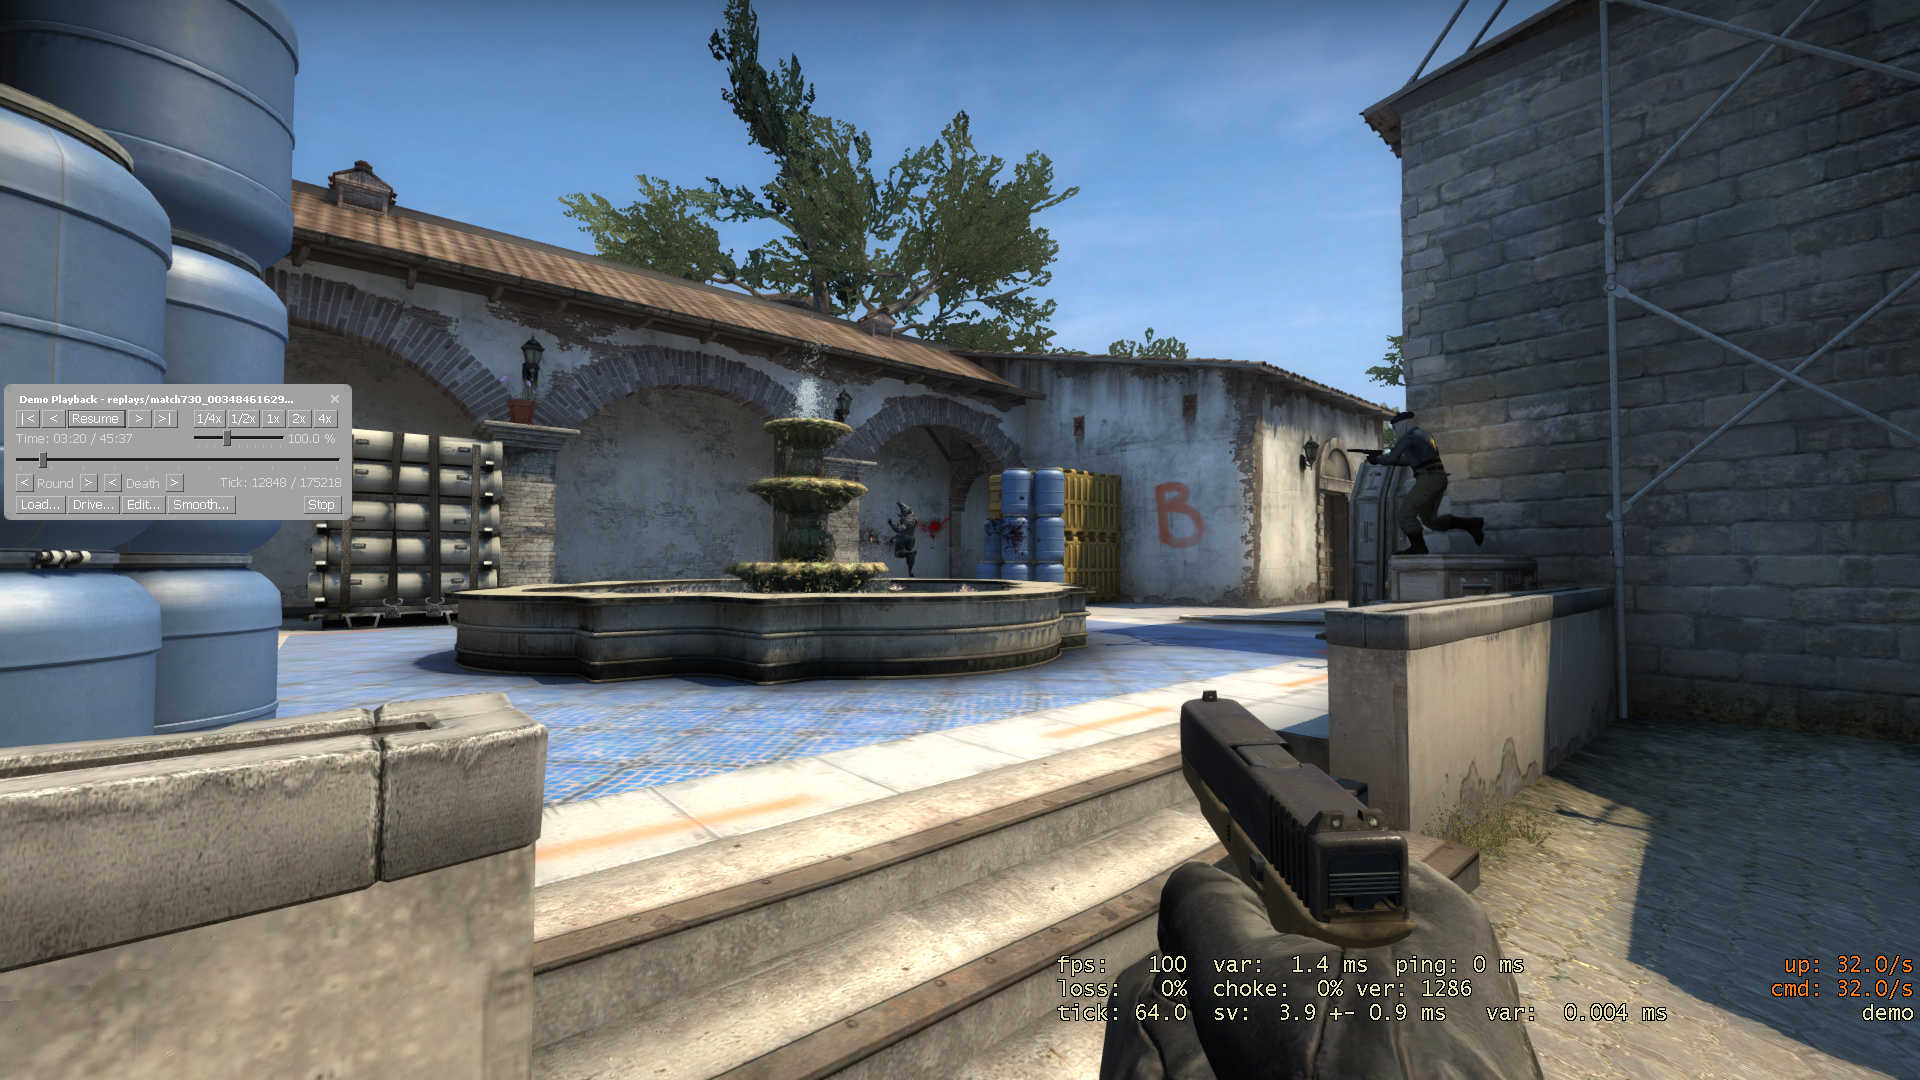ct: (886, 501, 919, 578)
t: (1364, 414, 1486, 554)
